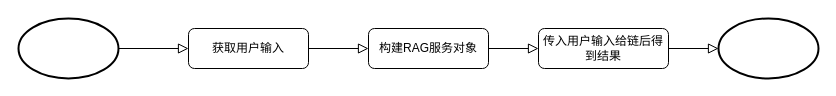
Image size: 836x96. Some labels were removed from this diagram. Each missing label, with the centre of its shape:
在线流程开始: [68,48]
在线流程结束: [768,48]
